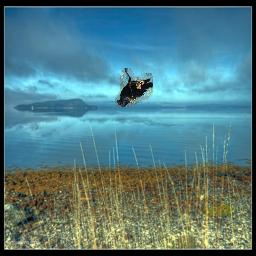Crow: (115, 69, 154, 108)
